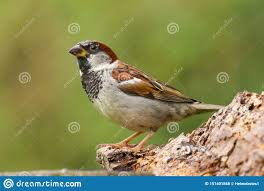hsparrow: (64, 35, 225, 148)
